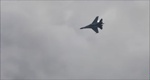maybay_muctieu: (79, 15, 104, 35)
